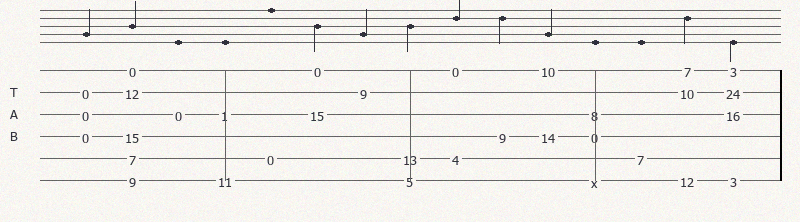0: (82, 130, 93, 143), (82, 86, 93, 99), (82, 108, 93, 121), (129, 64, 140, 77), (175, 108, 186, 121), (267, 152, 278, 165), (314, 64, 325, 77), (452, 64, 463, 77), (591, 130, 602, 143)
1: (221, 108, 232, 121)
10: (541, 64, 559, 77), (680, 86, 698, 99)
11: (218, 174, 236, 187)
12: (125, 86, 143, 99), (680, 174, 698, 187)
13: (403, 152, 421, 165)
14: (541, 130, 559, 143)
15: (125, 130, 143, 143), (310, 108, 328, 121)
16: (726, 108, 744, 121)
24: (726, 86, 744, 99)
3: (730, 64, 741, 77), (730, 174, 741, 187)
4: (452, 152, 463, 165)
5: (406, 174, 417, 187)
7: (129, 152, 140, 165), (637, 152, 648, 165), (684, 64, 695, 77)
8: (591, 108, 602, 121)
9: (129, 174, 140, 187), (360, 86, 371, 99), (499, 130, 510, 143)
x: (591, 175, 602, 186)
